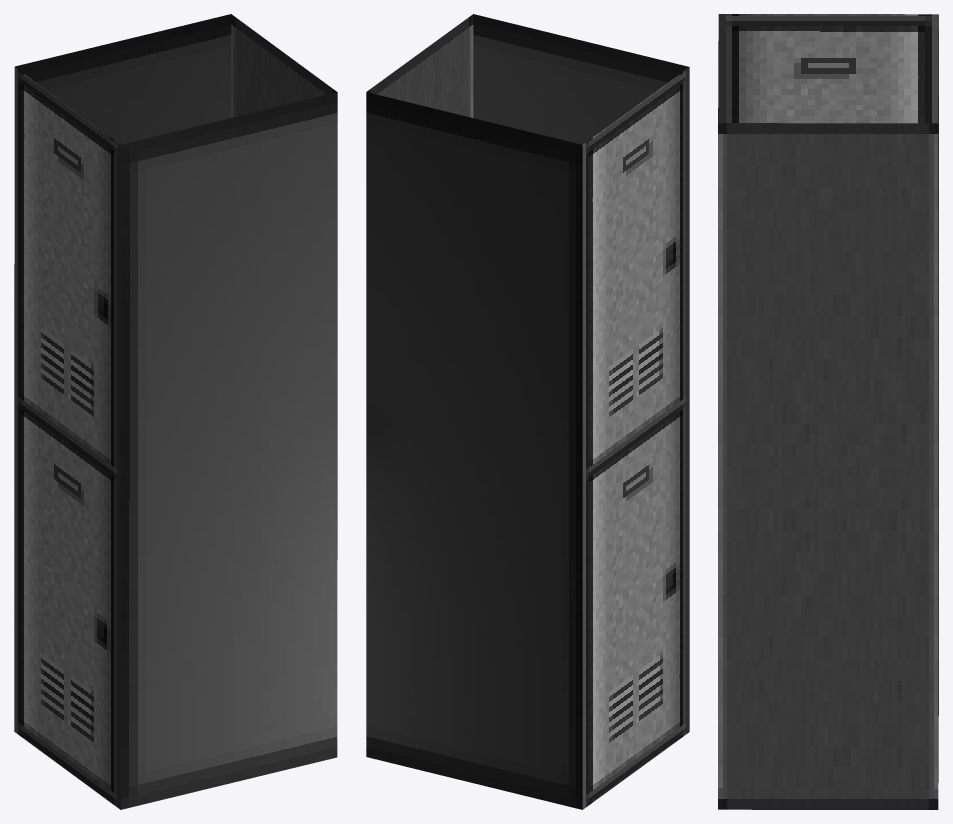
File: primary_110.glb
3 renders of one model, left to right at view 1: azimuth 30°, elevation 25°; view 2: azimuth 150°, elevation 25°; view 3: azimuth 270°, elevation 25°, orthographic. The views are drawn at different scales.
Parts seen in each view (by area): view 1: Object; view 2: Object; view 3: Object.
Boxes of the visible parts, x1,y1,x2,y2 form: Object: (14,14,337,809); Object: (366,14,689,809); Object: (718,14,938,809).
Size of the model in its own units: 0.774 by 2.27 by 0.6607.
Materials: 5 (5 with a texture image).
